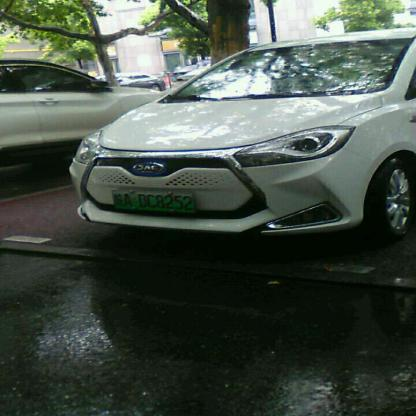lp: (109, 190, 194, 211)
